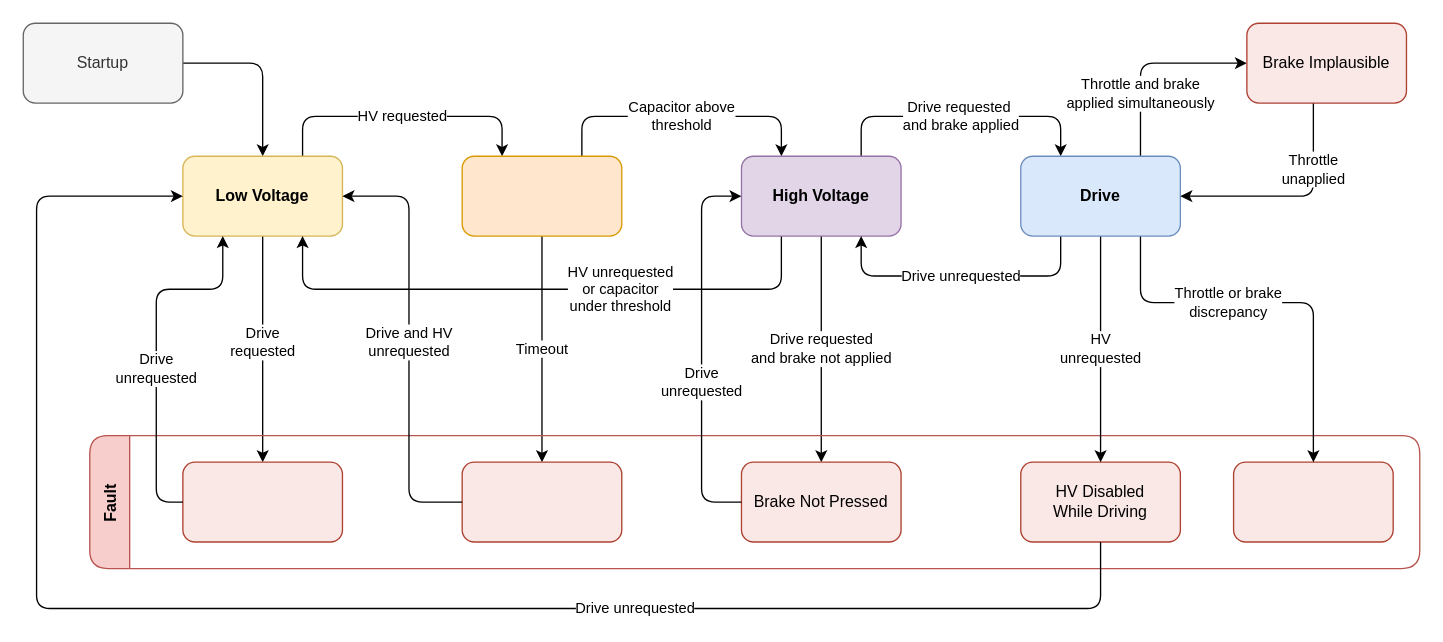
The diagram is 1443 pixels wide and 642 high, and some of its shapes have lost their labels. Each missing label, with the centre of its shape:
"Drive Request From LV" goes at point (262, 501).
"Precharging" goes at point (541, 195).
"Sensor Discrepancy" goes at point (1312, 501).
"Timer Maxed" goes at point (541, 501).
